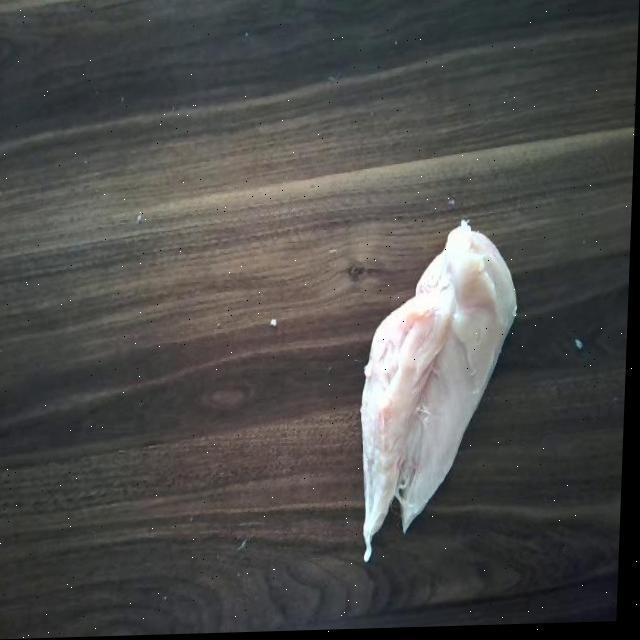breast: (355, 220, 524, 540)
